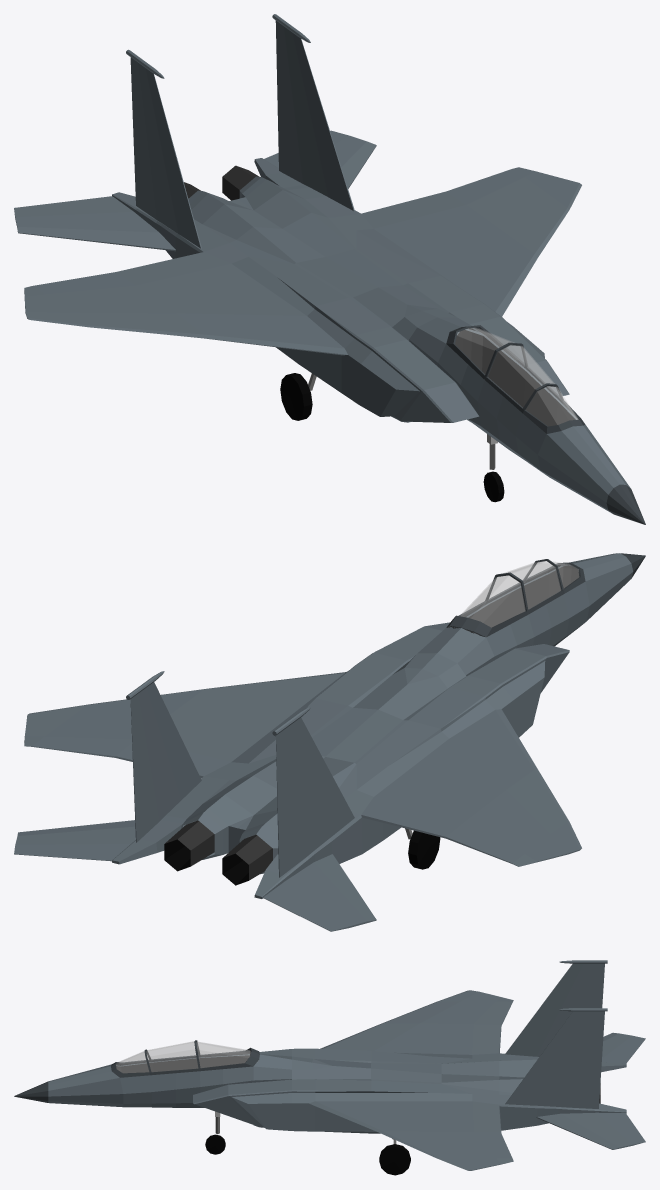
3 views of the same model, one above another, from view 1: azimuth 30°, elevation 25°; view 2: azimuth 150°, elevation 25°; view 3: azimuth 270°, elevation 25° (orthographic). The views are drawn at different scales.
Parts seen in each view (by area): view 1: Circle.039, Circle.051, Circle.040, Circle.044, Circle.050, Circle.049, Circle.041, Circle.043, Landing gear_RL.007, Circle.042, Circle.048, Landing gear_F.003; view 2: Circle.039, Circle.051, Circle.040, Circle.043, Circle.050, Circle.044, Circle.041, Circle.042, Circle.048, Landing gear_RL.007, Circle.049; view 3: Circle.039, Circle.040, Circle.043, Circle.044, Circle.051, Circle.041, Circle.049, Landing gear_RL.006, Circle.050, Circle.048, Circle.042, Landing gear_F.003.
Part boxes in pixels (x1,y1,x2,y2): Circle.039: (24, 14, 645, 524); Circle.051: (14, 196, 175, 251); Circle.040: (446, 325, 561, 412); Circle.044: (275, 20, 303, 183); Circle.050: (130, 57, 156, 219); Circle.049: (361, 191, 465, 228); Circle.041: (116, 252, 230, 285); Circle.043: (264, 130, 376, 188); Landing gear_RL.007: (280, 373, 316, 420); Circle.042: (33, 272, 135, 294); Circle.048: (446, 169, 524, 204); Landing gear_F.003: (483, 434, 504, 502); Circle.039: (24, 553, 645, 898); Circle.051: (263, 854, 376, 931); Circle.040: (446, 559, 563, 637); Circle.043: (14, 820, 135, 861); Circle.050: (275, 729, 305, 877); Circle.044: (130, 693, 159, 842); Circle.041: (361, 797, 466, 838); Circle.042: (446, 820, 524, 863); Circle.048: (32, 737, 132, 757); Landing gear_RL.007: (405, 828, 440, 869); Circle.049: (115, 743, 230, 778); Circle.039: (14, 960, 626, 1170); Circle.040: (145, 1040, 259, 1075); Circle.043: (536, 1112, 645, 1149); Circle.044: (567, 1011, 604, 1108); Circle.051: (602, 1032, 645, 1063); Circle.041: (472, 1024, 501, 1054); Circle.049: (472, 1101, 501, 1132); Landing gear_RL.006: (379, 1138, 410, 1175); Circle.050: (582, 963, 604, 1008); Circle.048: (474, 1131, 512, 1158); Circle.042: (474, 1001, 512, 1025); Landing gear_F.003: (205, 1111, 225, 1154).
Bounding box in the file's own units: 1284 × 565 × 1903.
